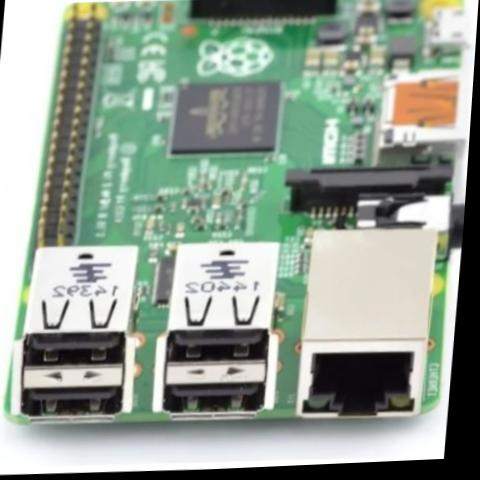Raspberry-Pi-2-Model-B: (0, 0, 480, 457)
